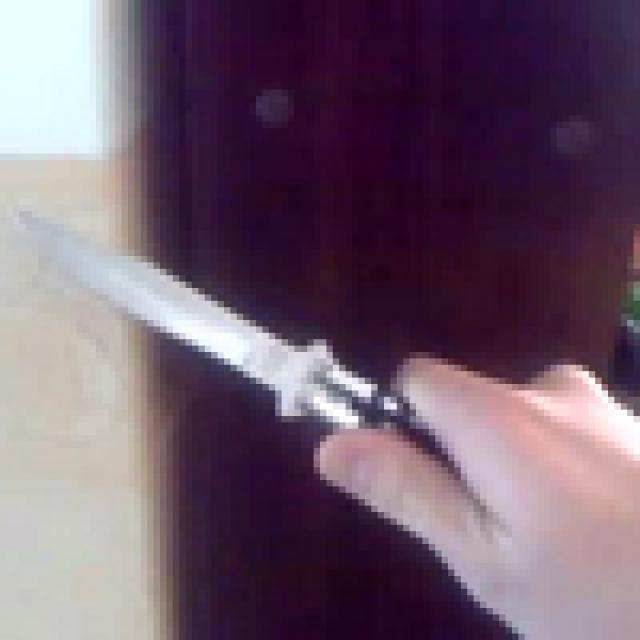knife: (13, 186, 468, 545)
